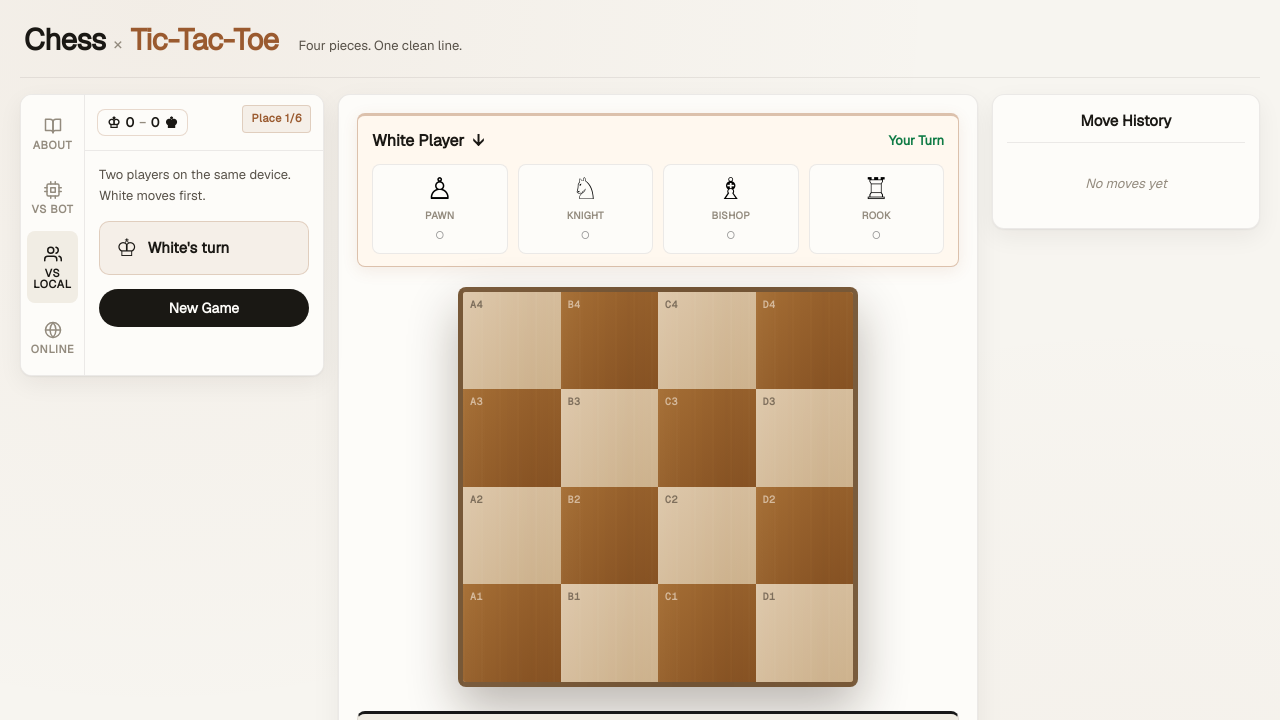
Scenario: Game UI › allows a local player to place a piece with accessible controls
Click the button with aria-label "white pawn": (440, 209) top-left (372, 164), bottom-right (508, 254)
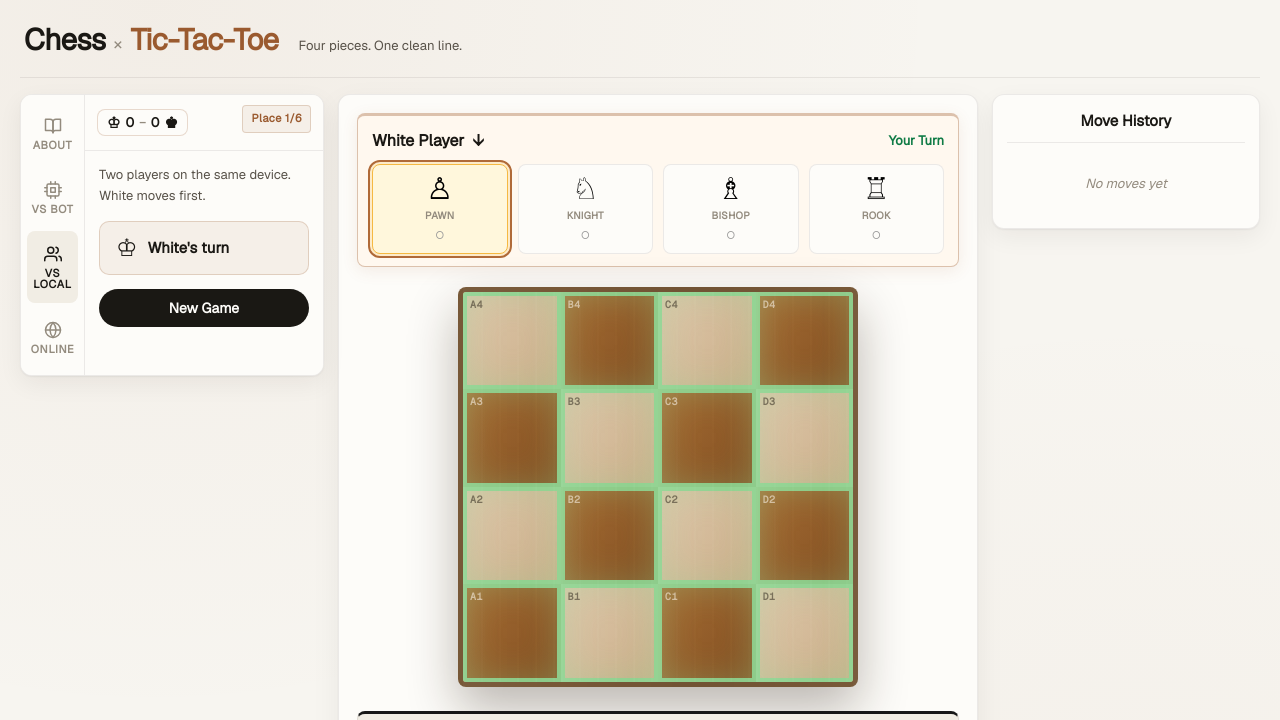
Click the cell named "A4, empty, legal": (512, 341) top-left (463, 292), bottom-right (560, 389)
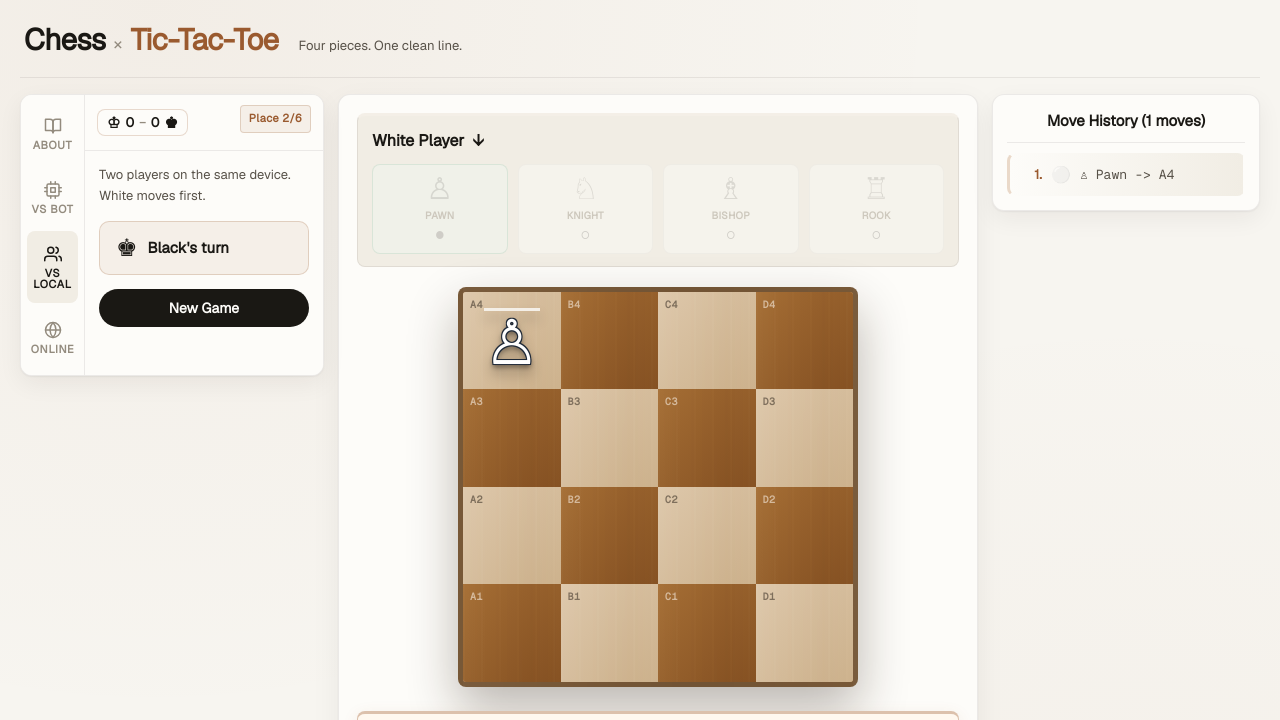
Expected: the cell named "A4, White Pawn" is shown, top-left (463, 292), bottom-right (560, 389)
Expected: the text "Place 2/6" is shown, top-left (240, 105), bottom-right (311, 133)
